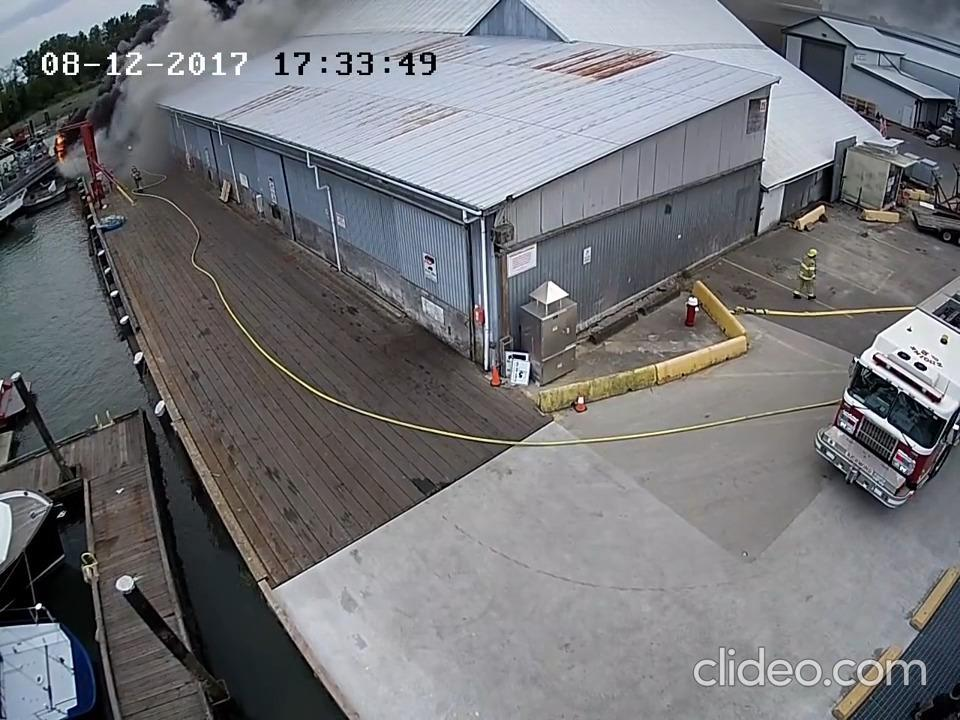fire: (53, 133, 69, 166)
